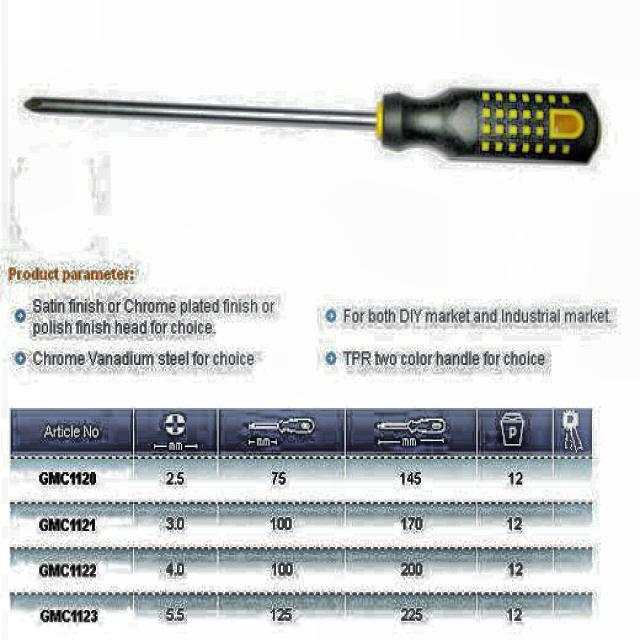screwdriver: (25, 88, 602, 166)
